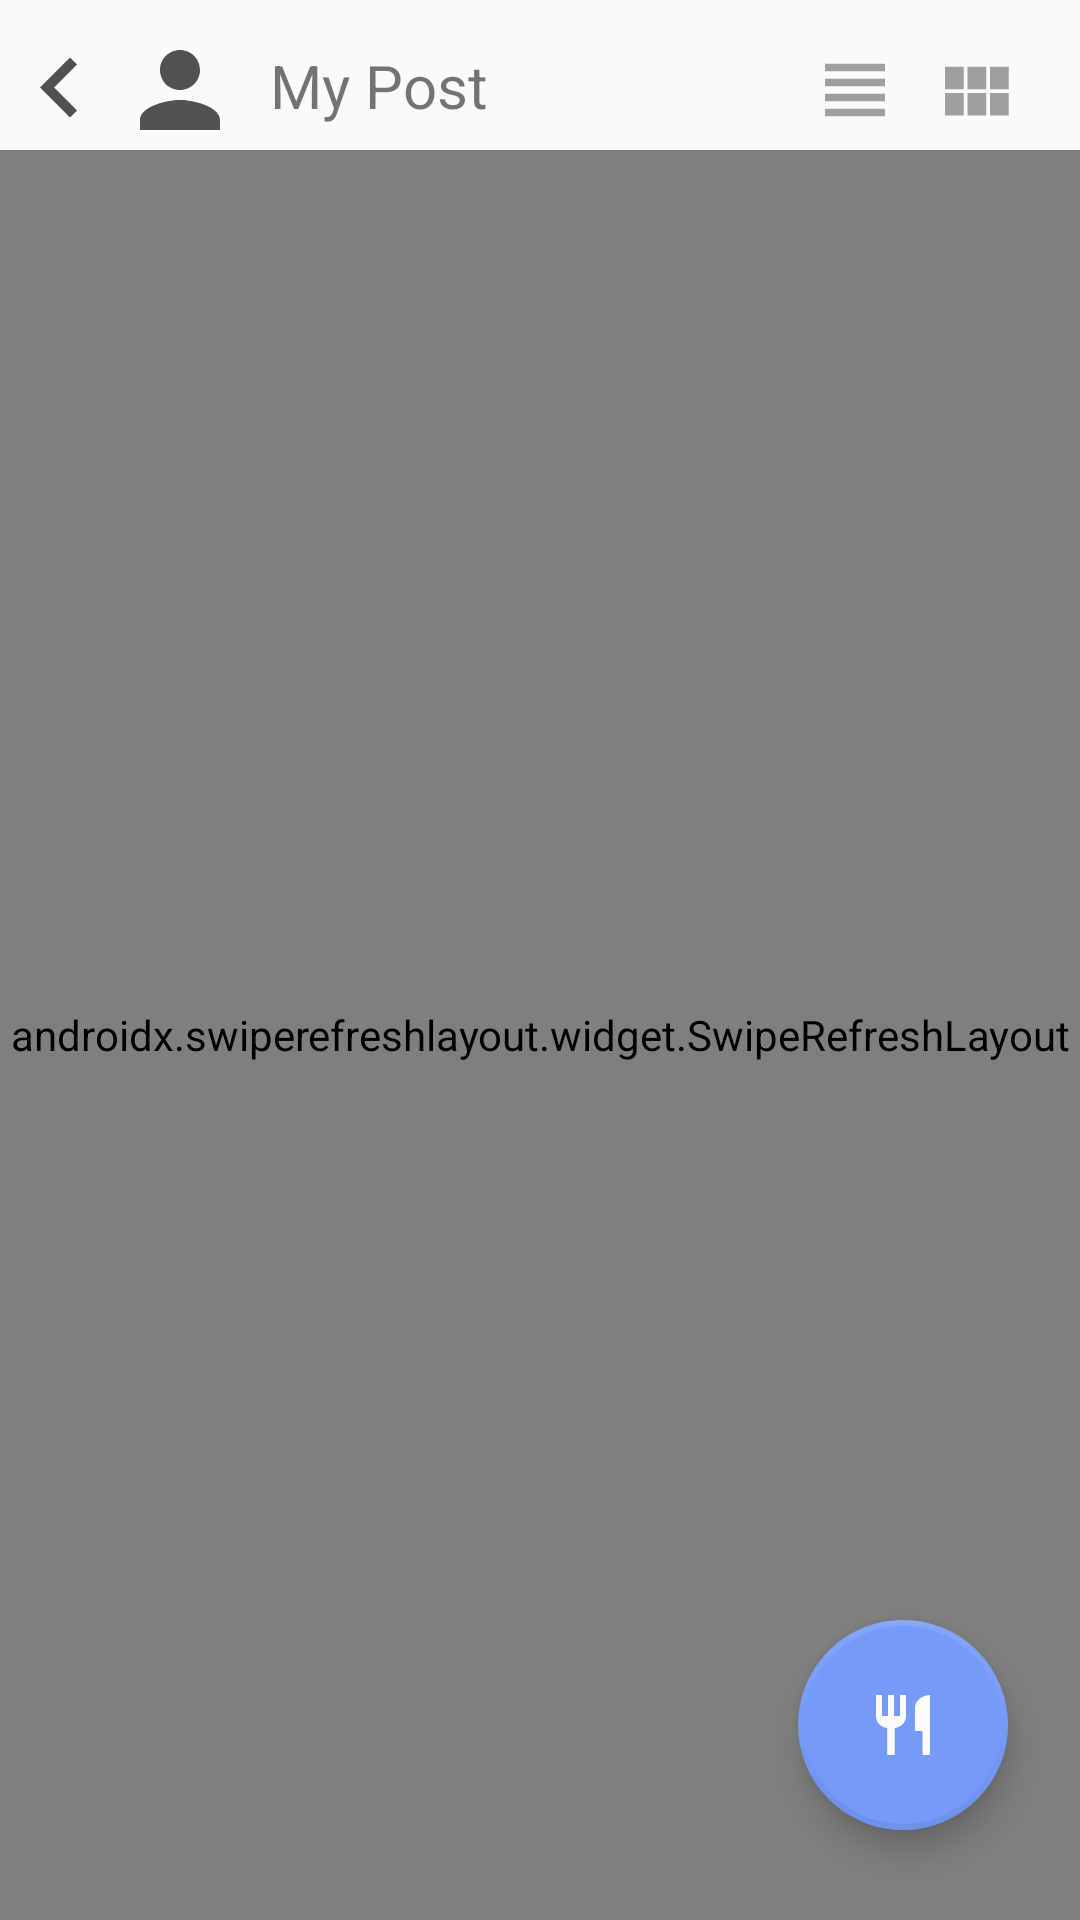

Icon click points for this 1080px x 1920px phone screenshot, format [x,y]:
back: [58,87]
grid: [977,91]
list: [855,90]
restaurant: [903,1725]
